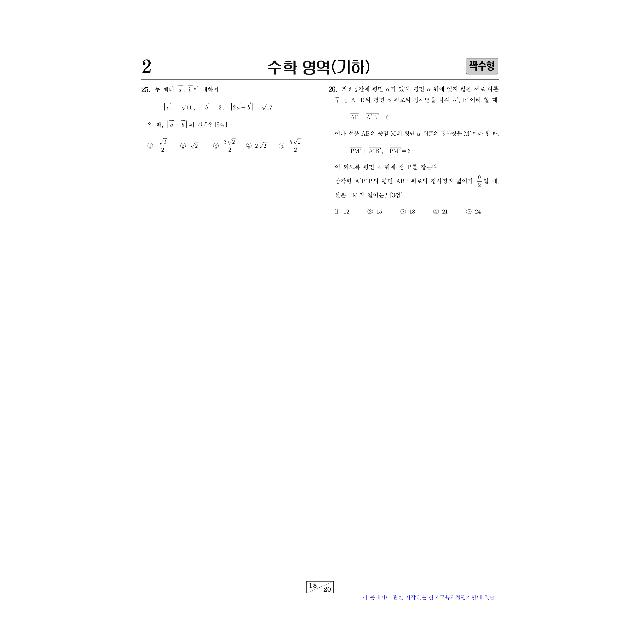multiple: (325, 82, 507, 226), (138, 81, 318, 163)
